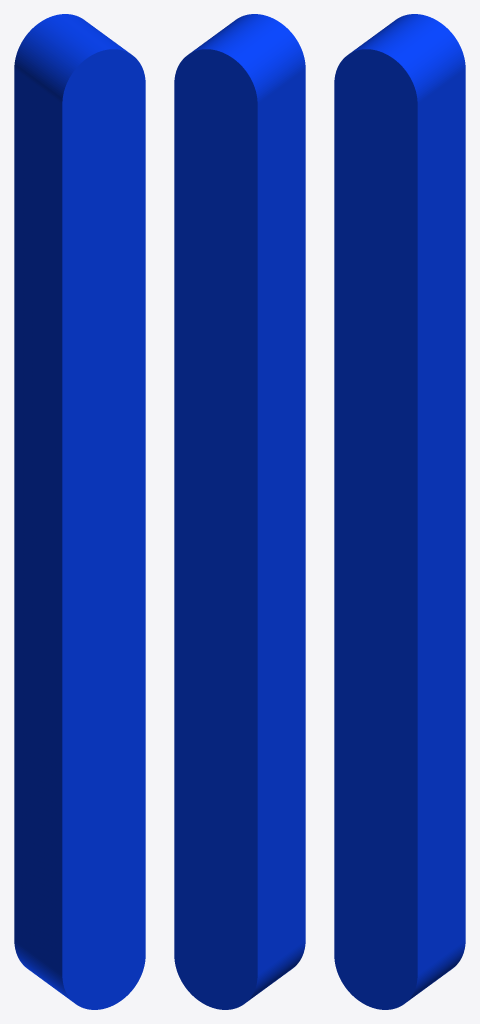
Rendered from shoulderConnector.obj.
3 renders of one model, left to right at view 1: azimuth 30°, elevation 25°; view 2: azimuth 150°, elevation 25°; view 3: azimuth 330°, elevation 25°, orthographic.
Visible parts, largest first — view 1: Part_Studio_1_-_ShoulderConnector; view 2: Part_Studio_1_-_ShoulderConnector; view 3: Part_Studio_1_-_ShoulderConnector.
Boxes of the visible parts, box(x1,y1,x2,y2) form: Part_Studio_1_-_ShoulderConnector: box(14, 14, 145, 1009); Part_Studio_1_-_ShoulderConnector: box(174, 14, 305, 1009); Part_Studio_1_-_ShoulderConnector: box(334, 14, 465, 1009).
Bounding box in the file's own units: 100 × 1100 × 100.
